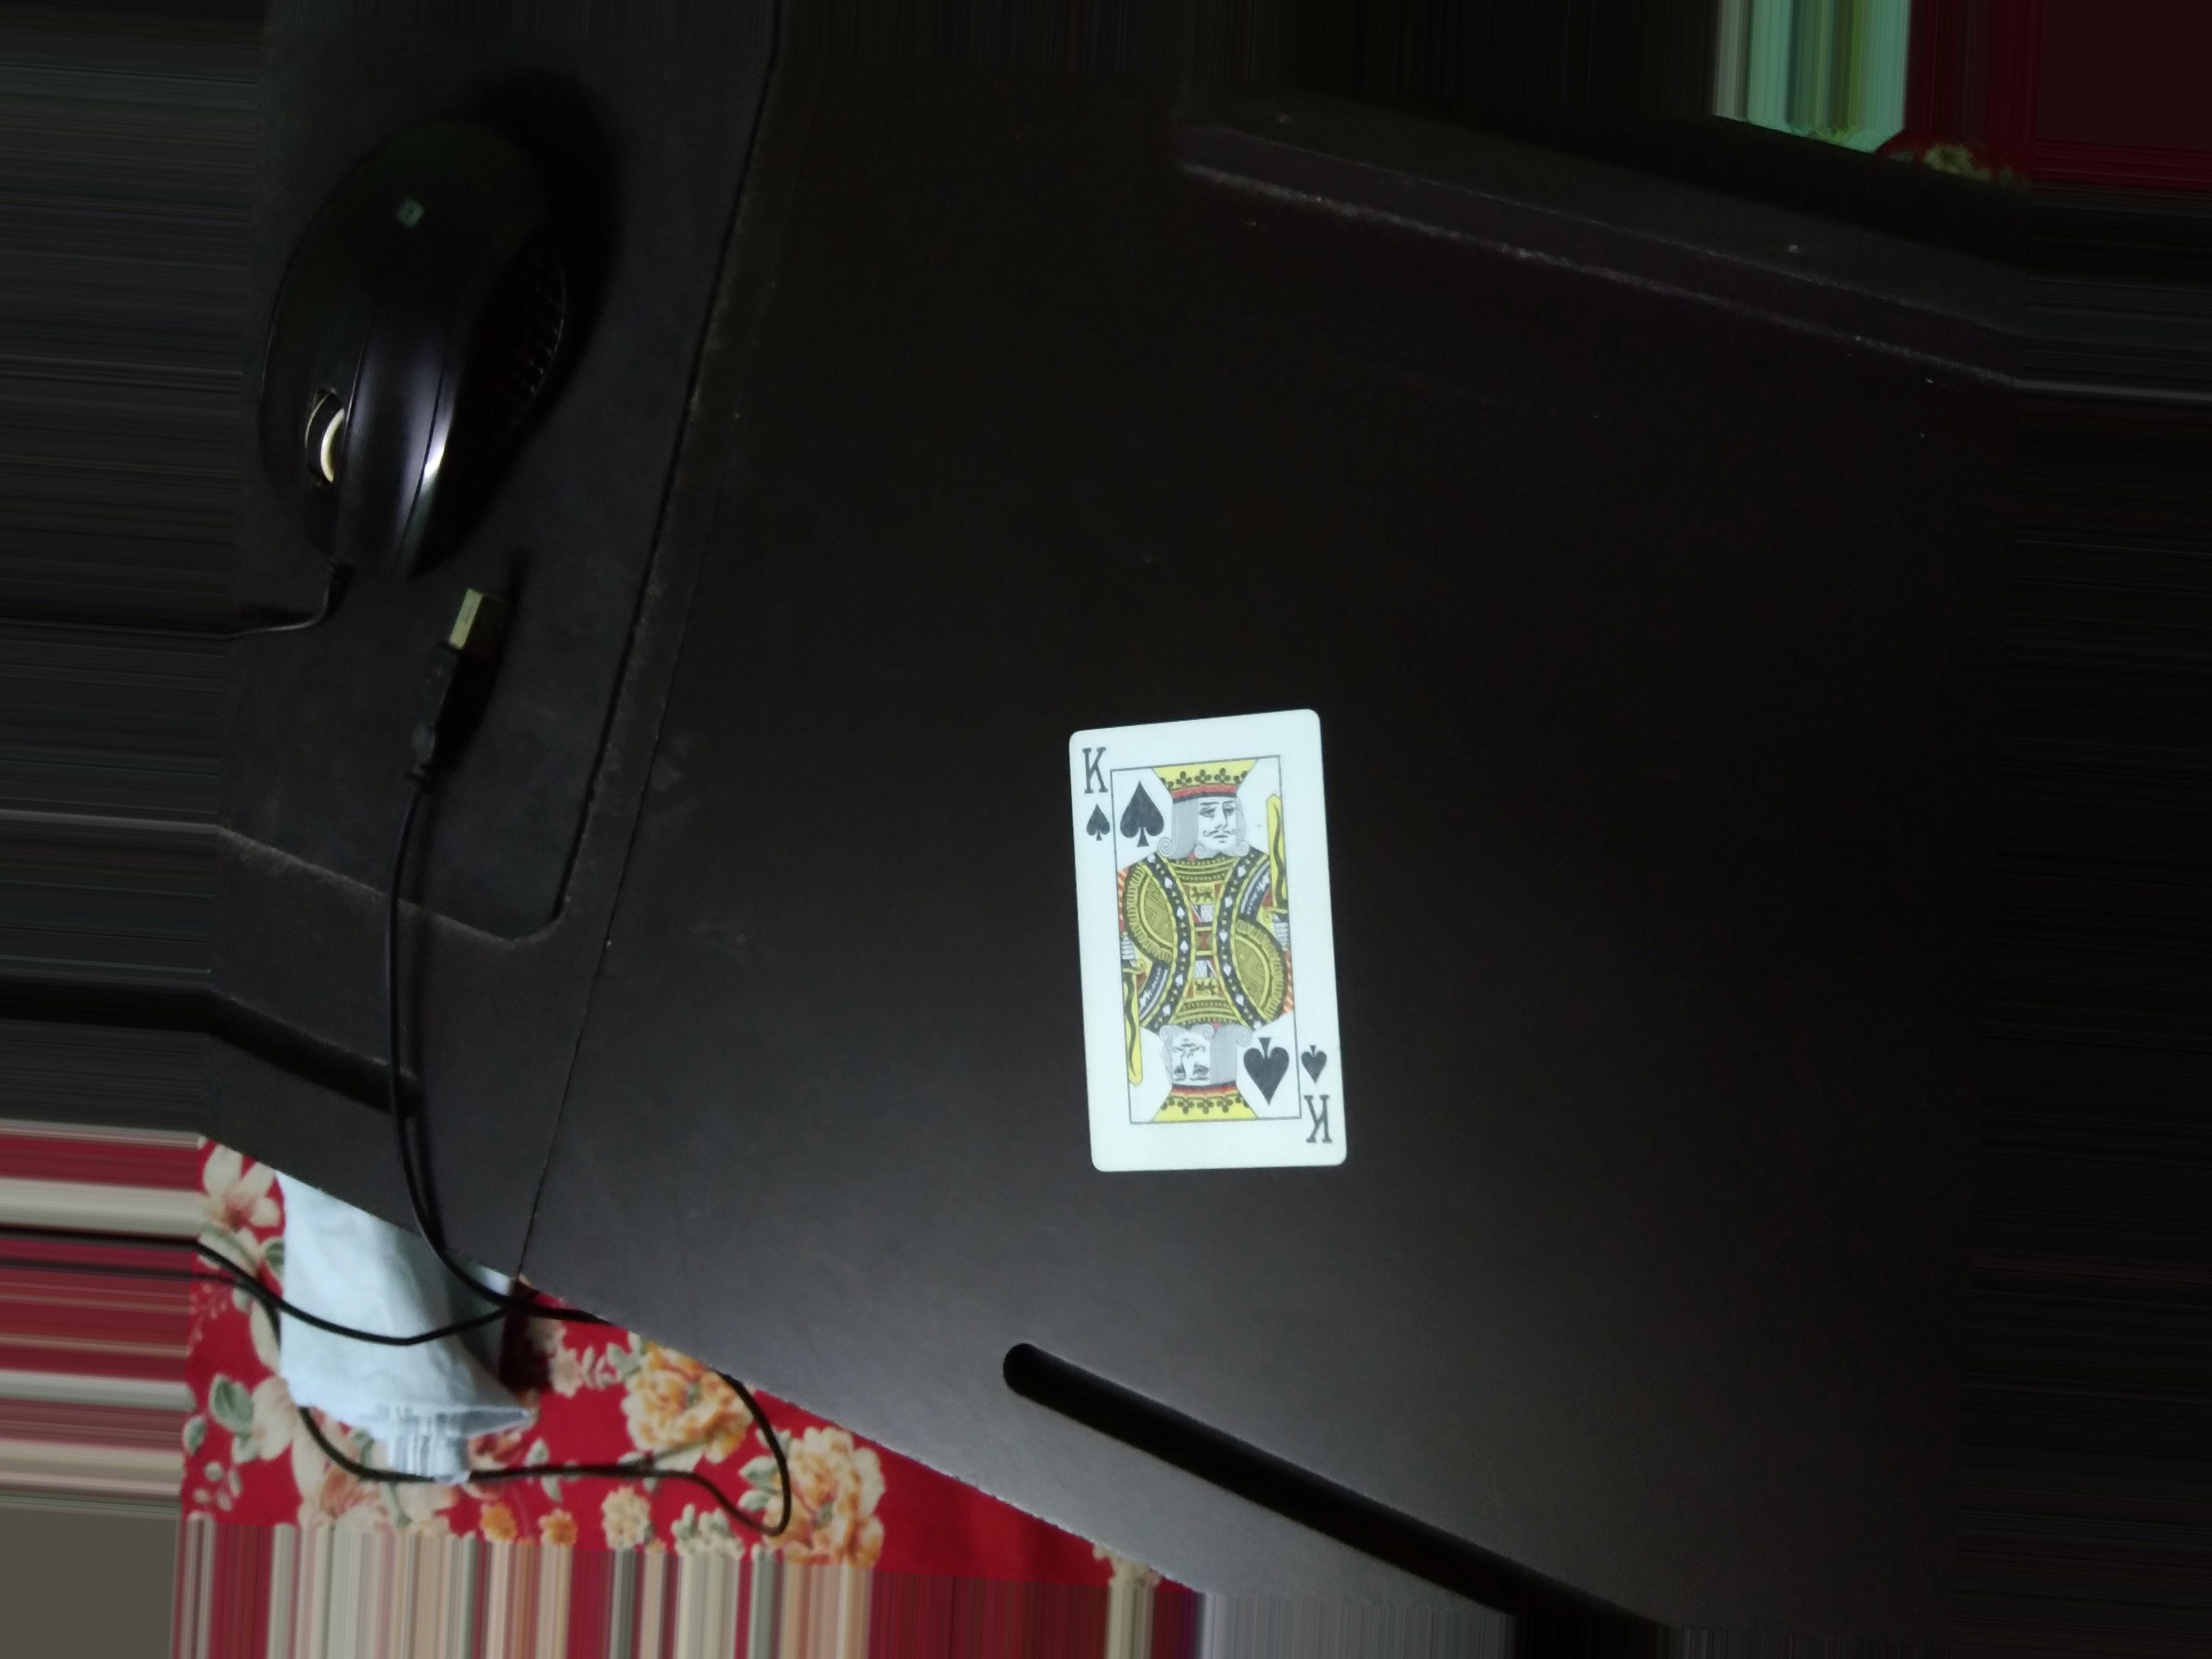KS: (1052, 727, 1123, 843)
